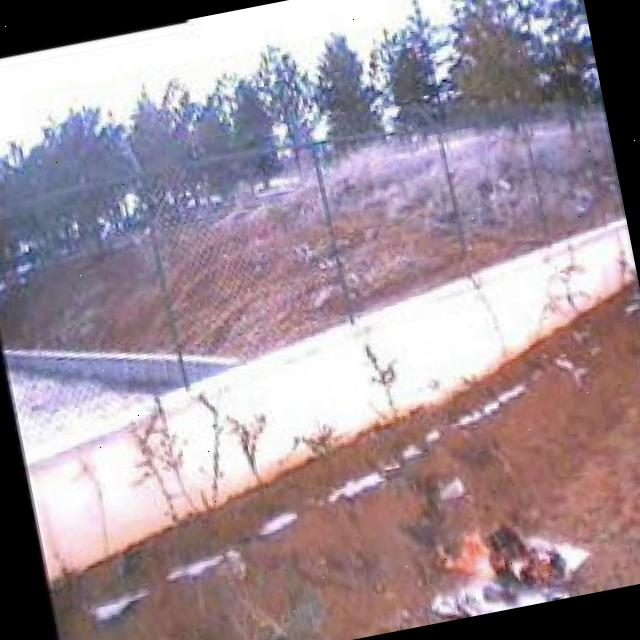fire: (426, 505, 576, 619)
